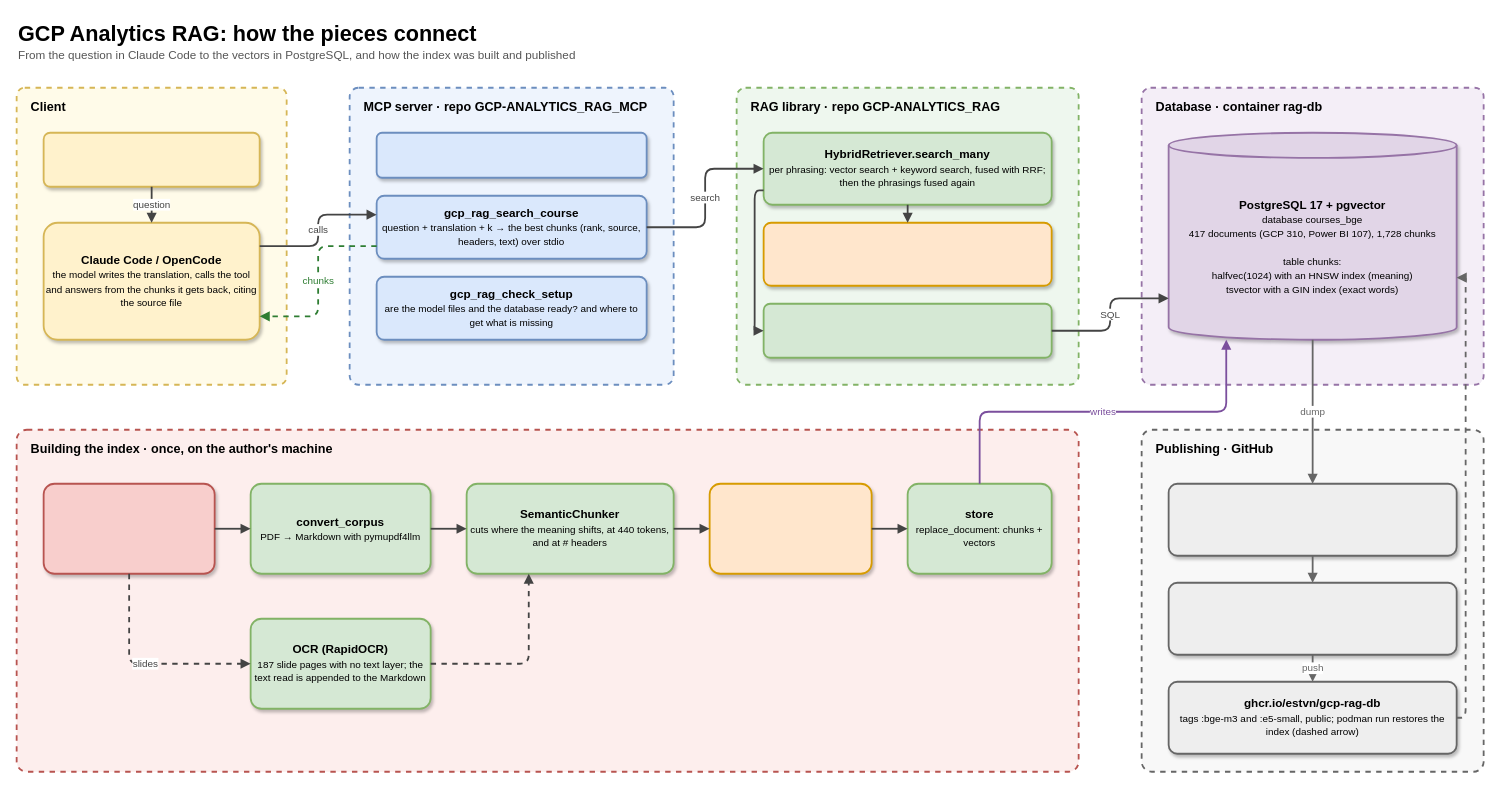
The diagram is 1499 pixels wide and 788 high, and some of its shapes have lost their labels. Here are the shapes that lost their labels. From the top down, the centre of each, then its label:
the point at 152,161: You ask a question about the course
the point at 512,156: gcp_rag_mcp (FastMCP) python process started by the client, talks over stdio
the point at 908,255: bge-m3 (int8 ONNX) local on CPU, 4 threads: the query becomes 1024 numbers
the point at 908,331: store.py the only module that talks to the database
the point at 129,529: Course files GCP: 310 Markdown and PDF Power BI: 107 PDFs
the point at 791,529: bge-m3 one vector per chunk
the point at 1313,520: pg_dump infra/db/courses_bge.dump and courses_e5.dump
the point at 1313,620: GitHub Actions publish-index-images.yml: builds, starts and checks each image
